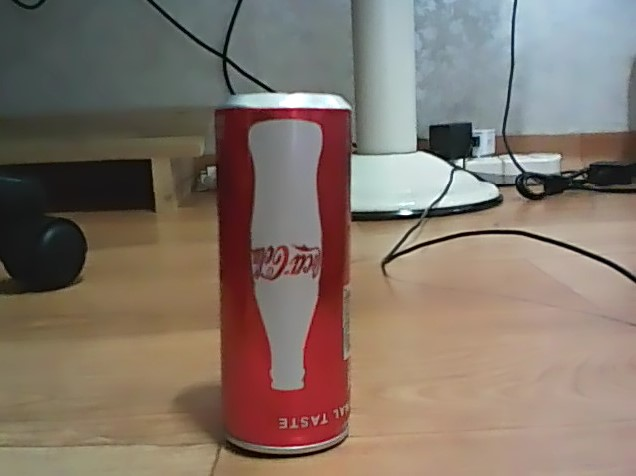Can: (209, 88, 355, 462)
